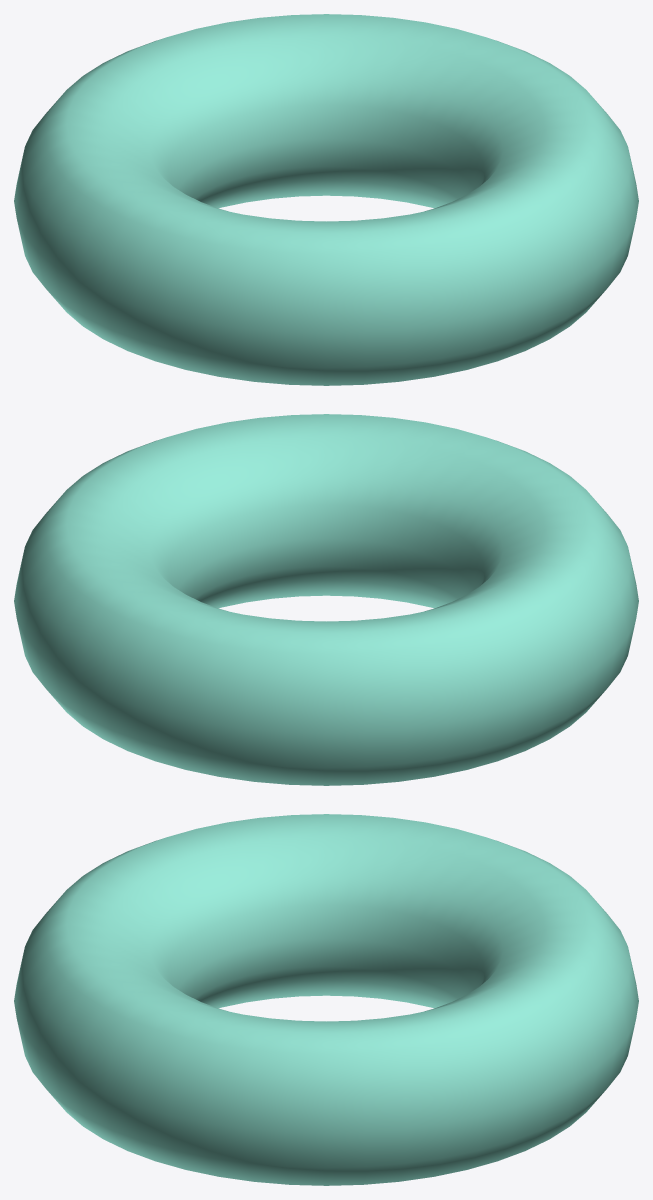
The model's file is boia6.fbx.
The picture shows the model from 3 angles, top to bottom: view 1: azimuth 30°, elevation 25°; view 2: azimuth 150°, elevation 25°; view 3: azimuth 270°, elevation 25°; orthographic projection.
Parts seen in each view (by area): view 1: Torus; view 2: Torus; view 3: Torus.
Part boxes in pixels (left/top/right/bottom): Torus: left=14, top=14, right=638, bottom=385; Torus: left=14, top=414, right=638, bottom=785; Torus: left=14, top=814, right=638, bottom=1185.
Bounding box in the file's own units: 126 × 35.79 × 126.
